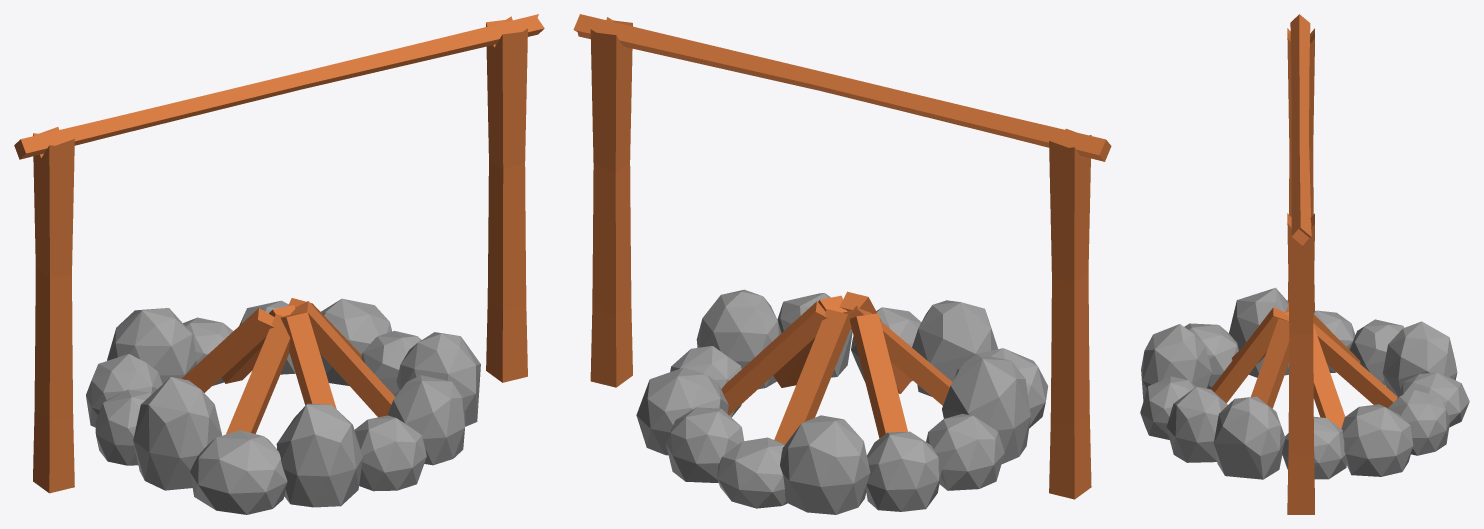
Rendered from arYSisaHyX.glb.
The picture shows the model from 3 angles, left to right: view 1: azimuth 30°, elevation 25°; view 2: azimuth 150°, elevation 25°; view 3: azimuth 270°, elevation 25°; orthographic projection. The views are drawn at different scales.
Visible parts, largest first — view 1: FirePit3; view 2: FirePit3; view 3: FirePit3.
Part boxes in pixels (x1,y1,x2,y2): FirePit3: (14, 14, 544, 514); FirePit3: (573, 14, 1111, 514); FirePit3: (1140, 14, 1469, 514).
Size of the model in its own units: 1.52 by 1.02 by 0.9985.
